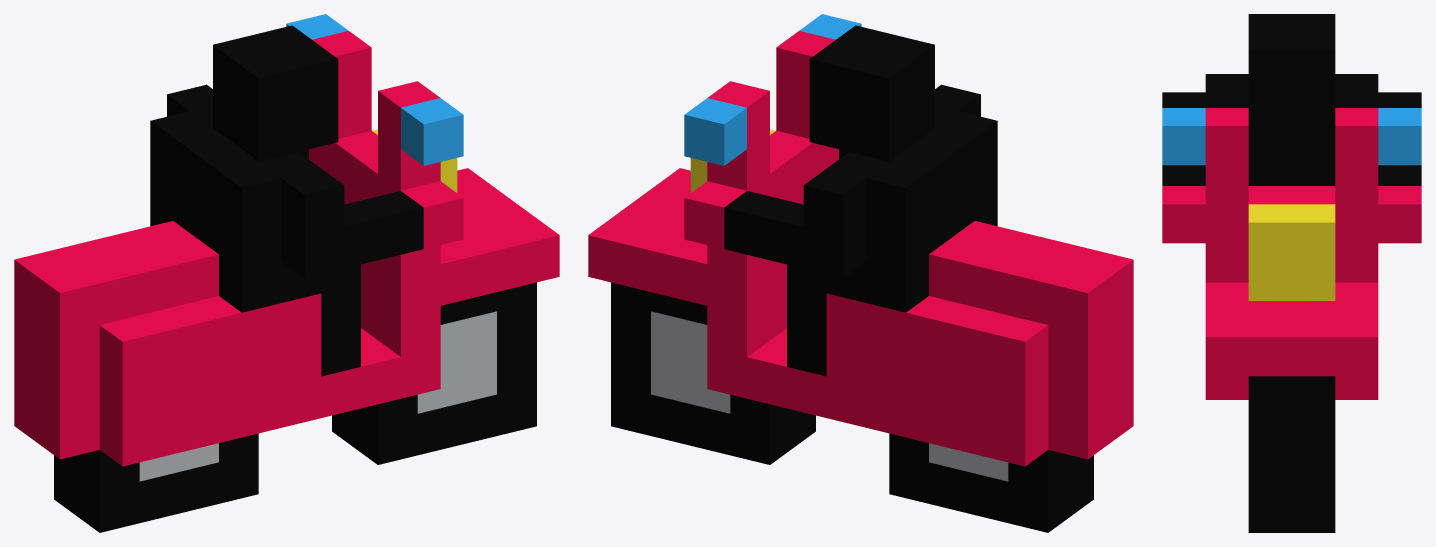
Rendered from scooter_a_a.obj.
The picture shows the model from 3 angles, left to right: view 1: azimuth 30°, elevation 25°; view 2: azimuth 150°, elevation 25°; view 3: azimuth 270°, elevation 25°; orthographic projection. The views are drawn at different scales.
Bounding box in the file's own units: 1.2 × 1 × 0.6.
1 material, 1 textured.
